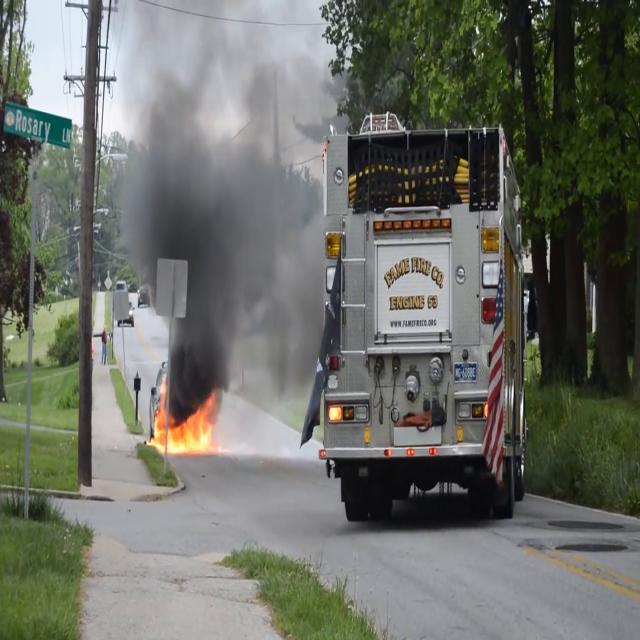Fire: (150, 391, 222, 461)
Smoke: (113, 0, 345, 408)
